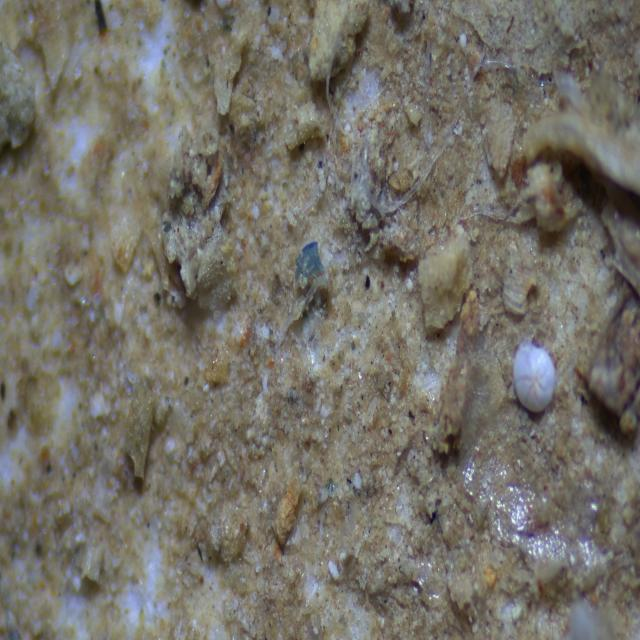microplastic: (281, 236, 333, 294)
